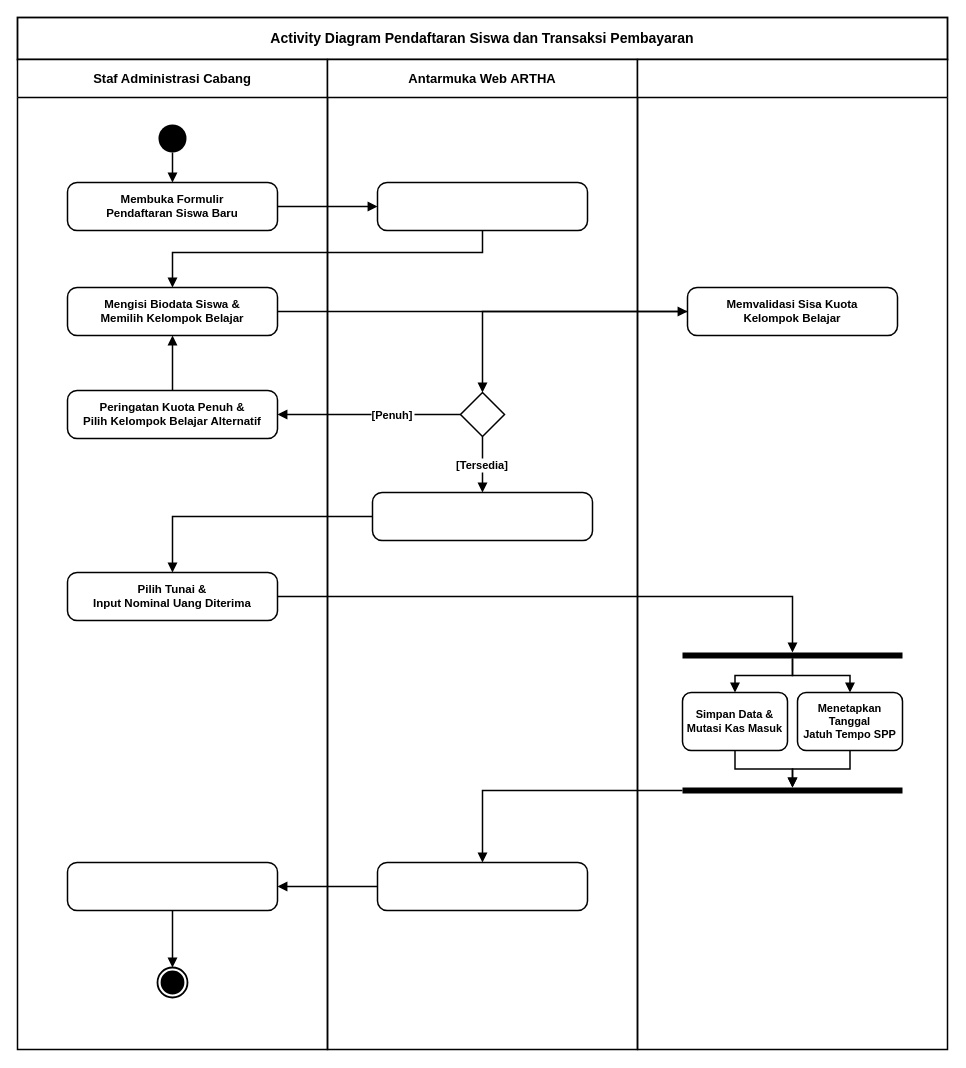
Some shapes in this 966 by 1068 pixel diagram are drawn without their labels. The box of each missing label's shape, as (x1, y1, x2, y2) in pixels:
Basis Data & Server ARTHA: (636, 58, 948, 1050)
Menampilkan Formulir & Daftar Kelompok Belajar Aktif: (376, 181, 588, 231)
Mencetak Kuitansi Resmi Berformat PDF: (376, 861, 588, 911)
Menetapkan Kelompok Belajar & Hitung Rincian Tagihan: (371, 491, 593, 541)
Menyerahkan Kuitansi Fisik ke Orang Tua Siswa: (66, 861, 278, 911)
